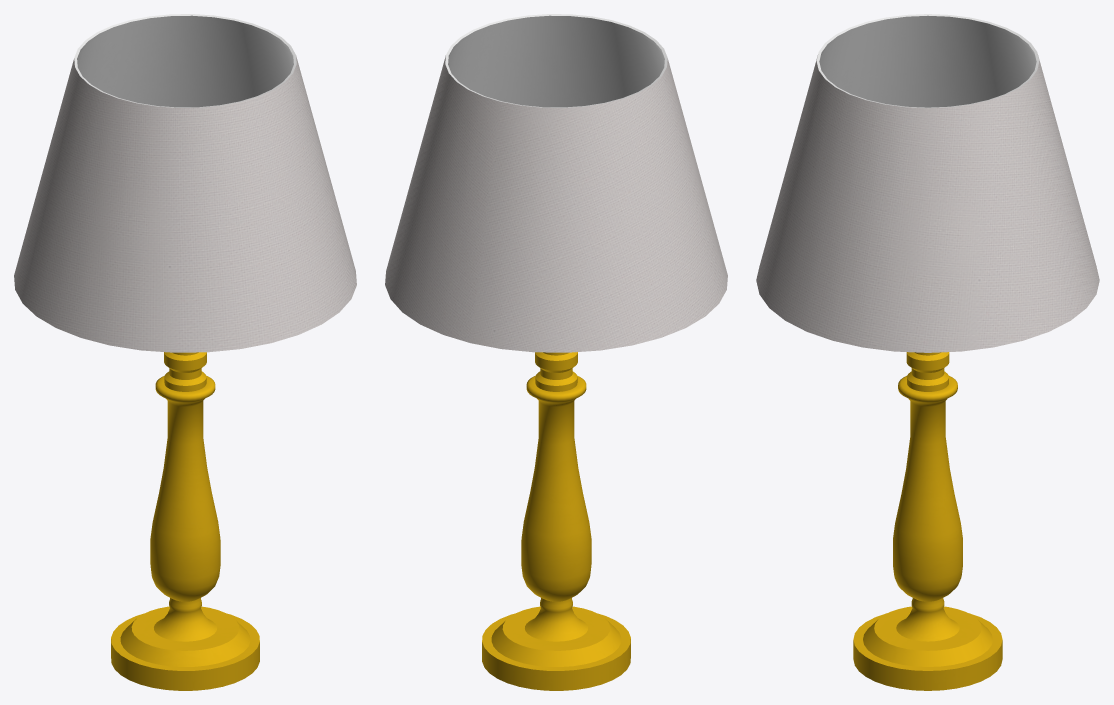
File: TableLamp.obj
3 views of the same model, side by side, from view 1: azimuth 30°, elevation 25°; view 2: azimuth 150°, elevation 25°; view 3: azimuth 270°, elevation 25° (orthographic).
Visible parts, largest first — view 1: TableLamp7; view 2: TableLamp7; view 3: TableLamp7.
Boxes of the visible parts, box(x1,y1,x2,y2) form: TableLamp7: box(14, 14, 356, 690); TableLamp7: box(385, 14, 727, 690); TableLamp7: box(756, 14, 1099, 690).
Bounding box in the file's own units: 9.46 × 18.17 × 9.46.
